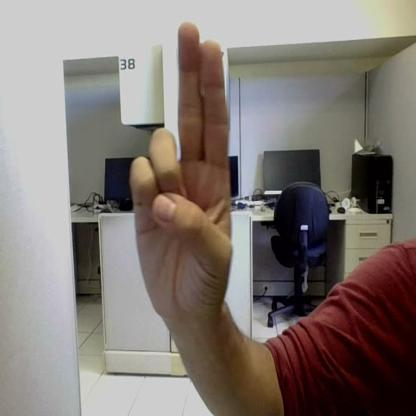U: (131, 23, 232, 315)
